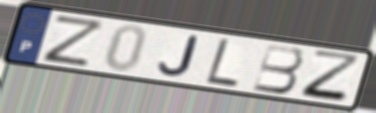0: (102, 23, 152, 75)
B: (250, 42, 306, 96)
J: (156, 34, 201, 79)
L: (203, 36, 241, 90)
Z: (298, 48, 365, 106), (40, 13, 109, 69)
